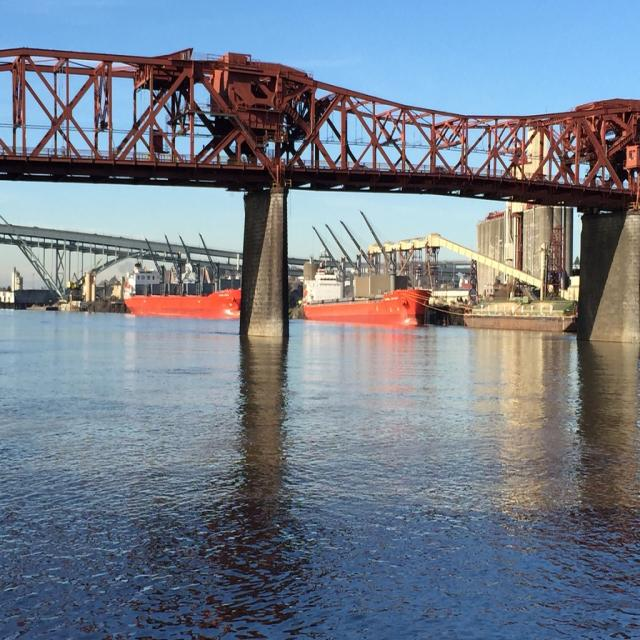Boat: (302, 208, 433, 328), (122, 289, 240, 322)
